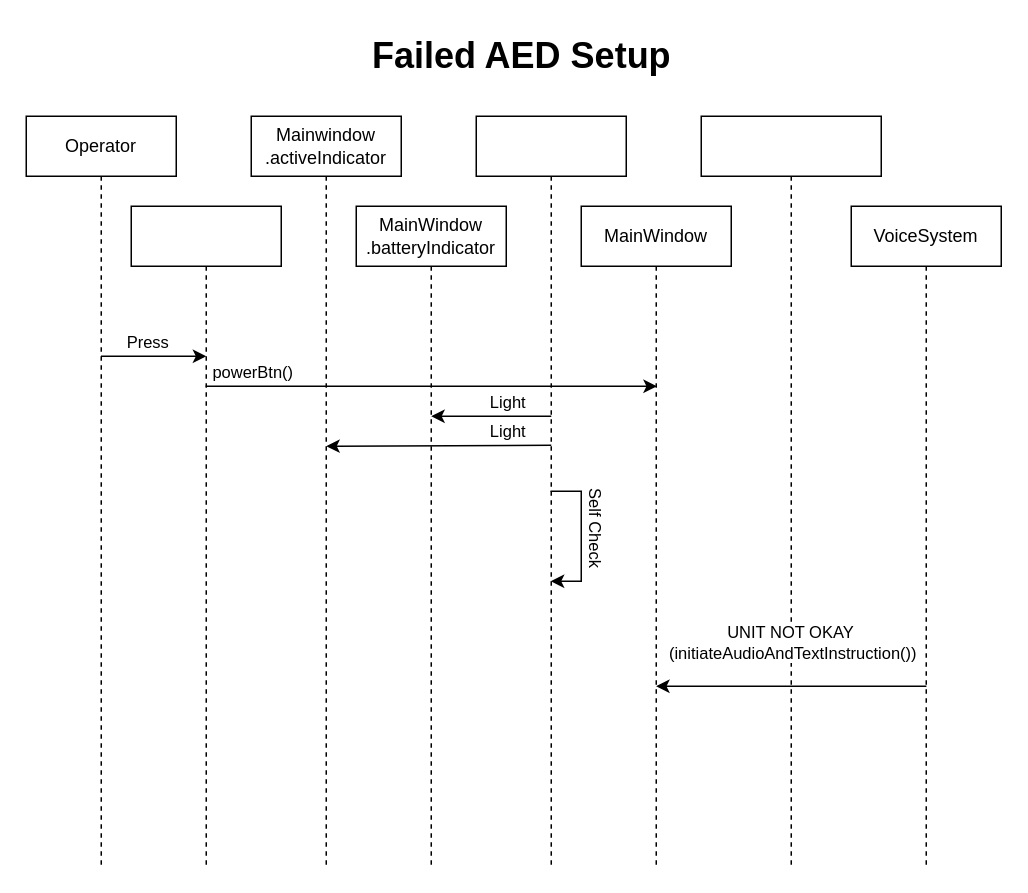
This 1028x893 diagram has some shape labels left out. Each missing label, with the box of its shape:
AED: (475, 115, 626, 866)
MainWindow .placeElectrodesBtn: (700, 115, 881, 866)
MainWindow .powerButton: (130, 205, 281, 866)
